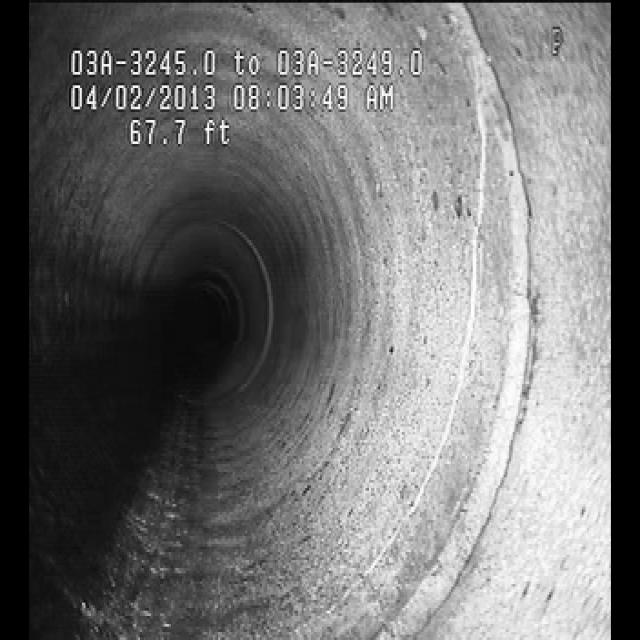Crack: (397, 152, 504, 543)
